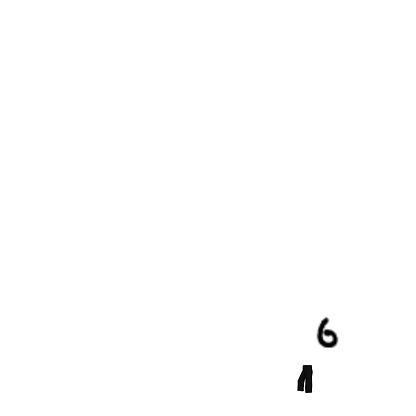6: (305, 313, 347, 355)
Trouser: (291, 365, 319, 393)
